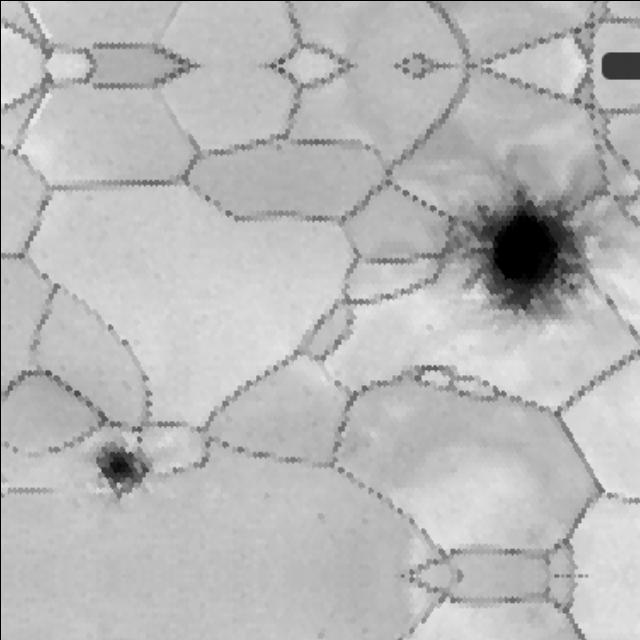good_void: (434, 136, 624, 344), (83, 426, 159, 507), (133, 432, 146, 445), (314, 510, 326, 524), (314, 625, 326, 639), (260, 487, 270, 499), (423, 321, 433, 331)
